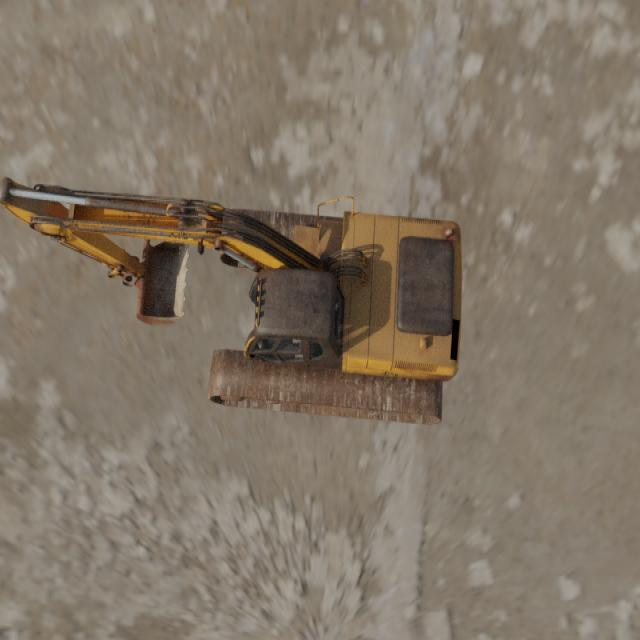excavator: (0, 176, 463, 425)
